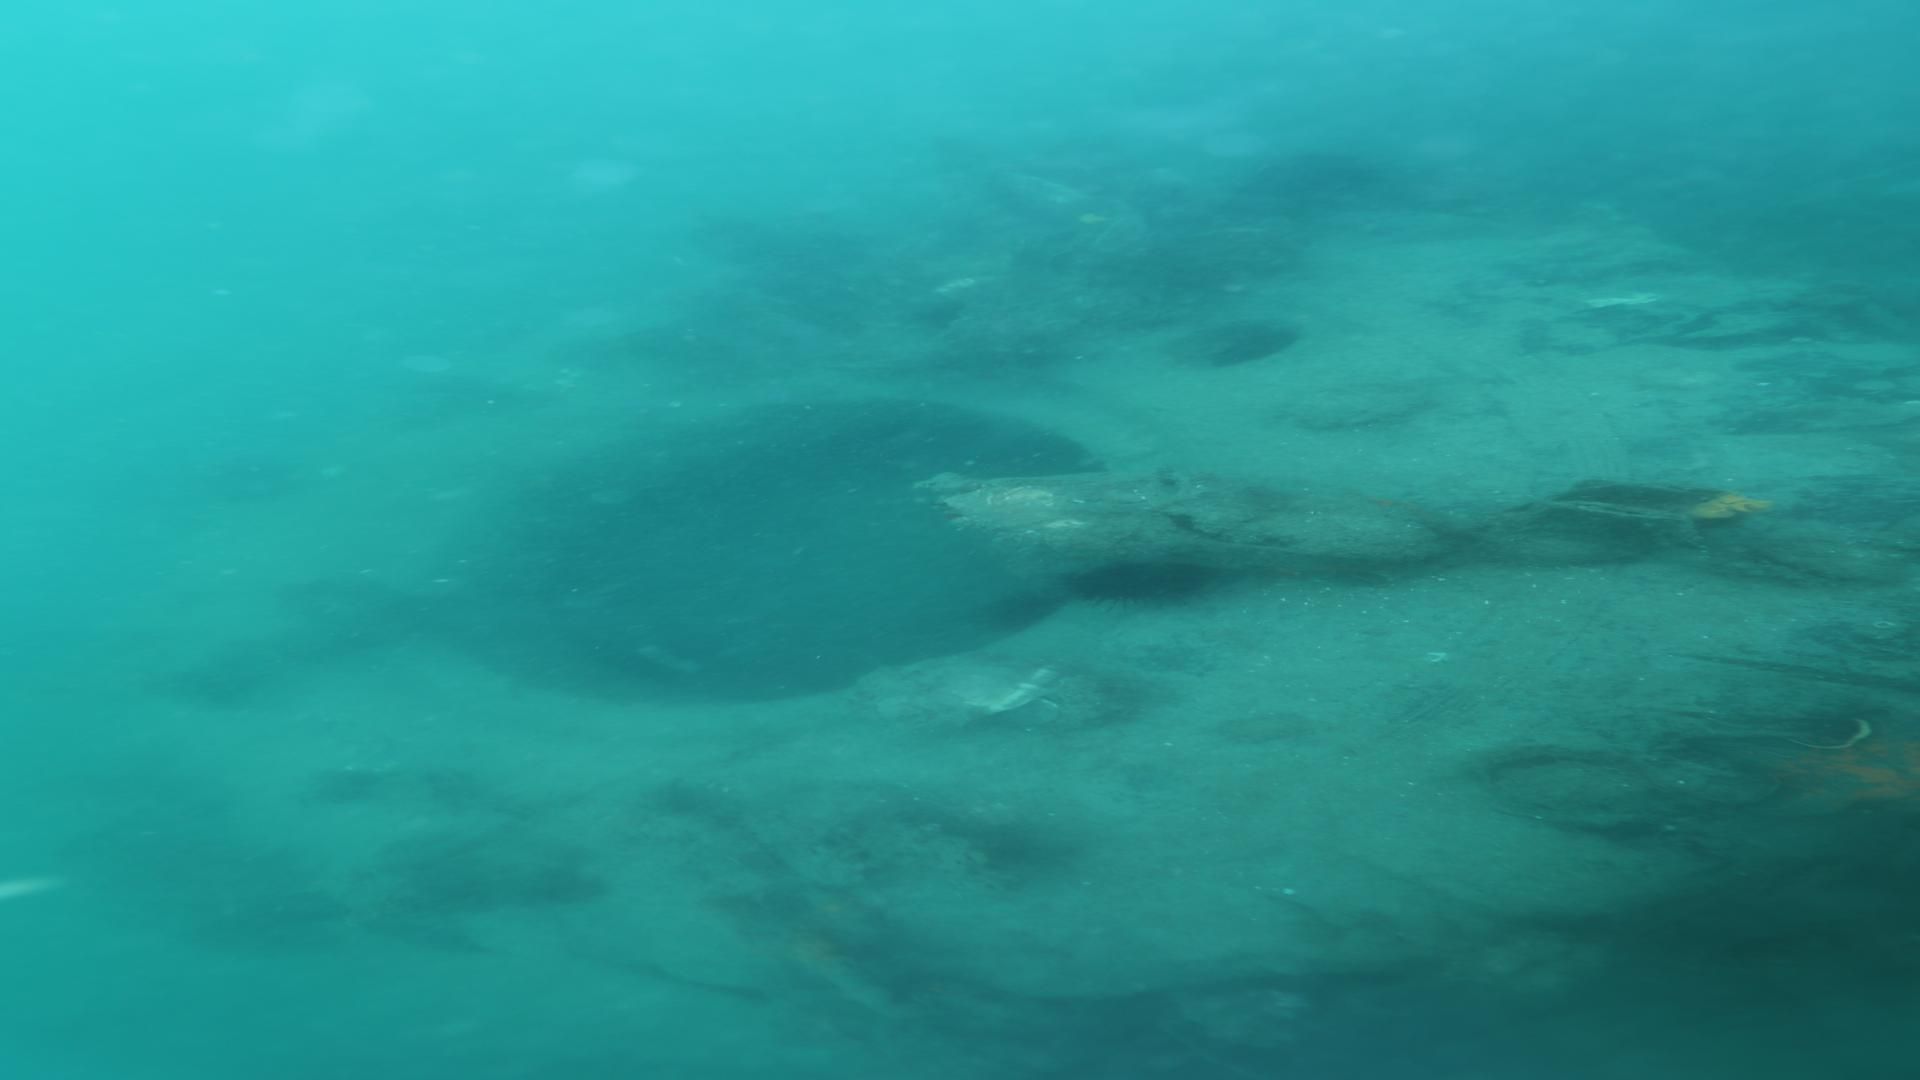tire: (135, 128, 1920, 996)
